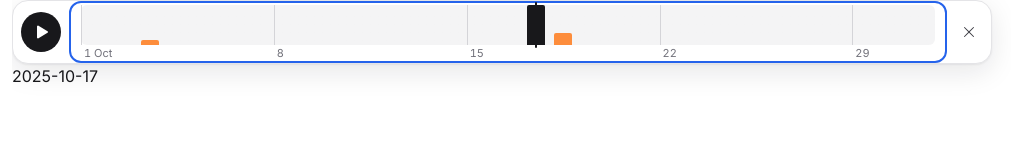
Test: the days of a month in the player of the calendar › picks another day with the arrows, and the whole month again on "All days"
Press Arrowright
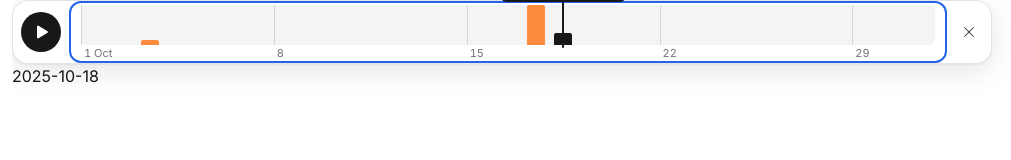
Now the text "2025-10-18" is shown, box top-left (12, 66), bottom-right (99, 86)
Press Arrowright
Now the text "2025-10-18" is shown, box top-left (12, 66), bottom-right (99, 86)
Press Arrowleft Arrowleft
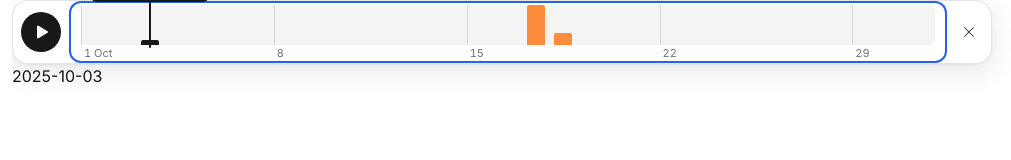
Now the text "2025-10-03" is shown, box top-left (12, 66), bottom-right (102, 86)
Click the button named "All days": (969, 32) top-left (955, 18), bottom-right (983, 46)
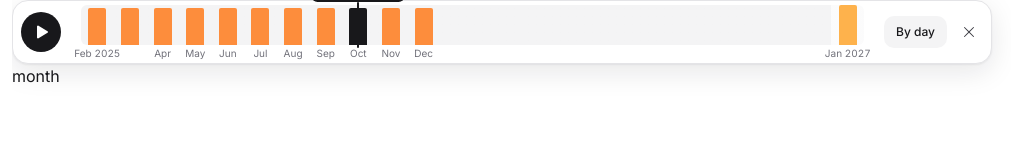
Now the text "month" is shown, box top-left (12, 66), bottom-right (60, 86)
Now the button "By day" is shown, box top-left (884, 16), bottom-right (947, 48)
